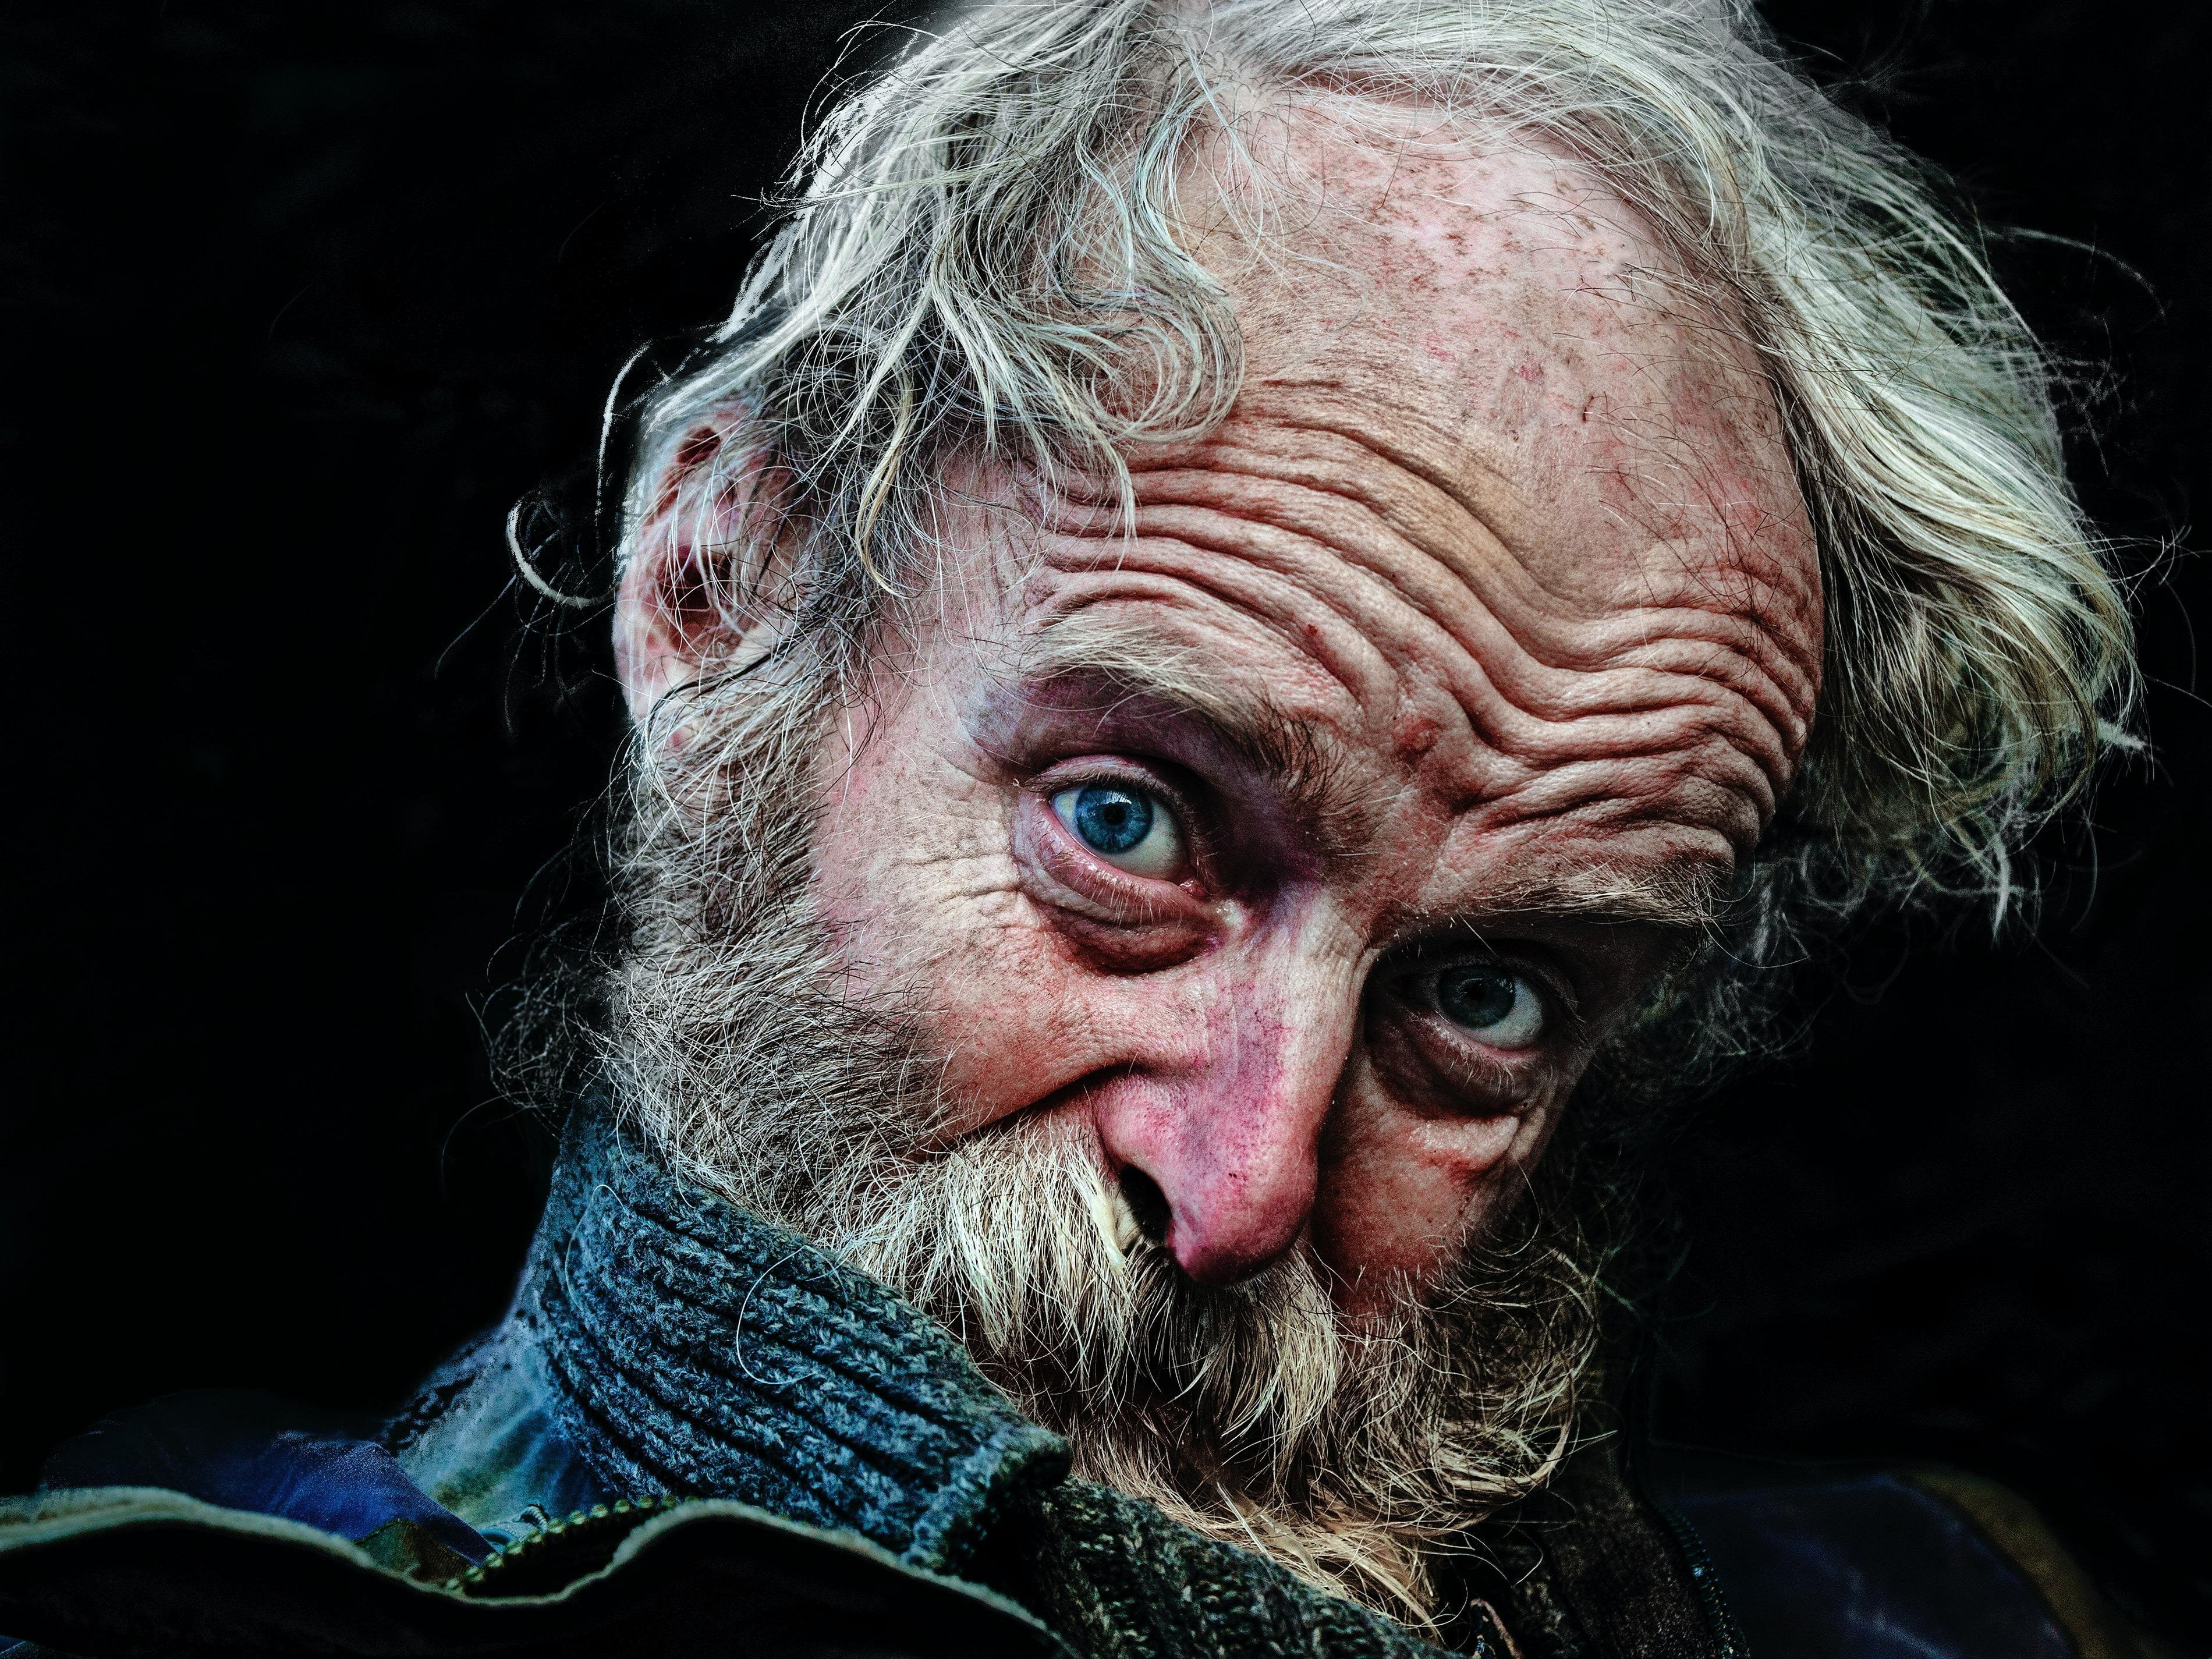Wrinkles: (1143, 465, 1801, 755), (1141, 493, 1695, 723), (1261, 420, 1583, 603), (1057, 561, 1367, 711), (1137, 526, 1402, 676), (1625, 631, 1803, 718), (1536, 730, 1787, 779), (900, 852, 1001, 863), (942, 890, 1015, 897)
